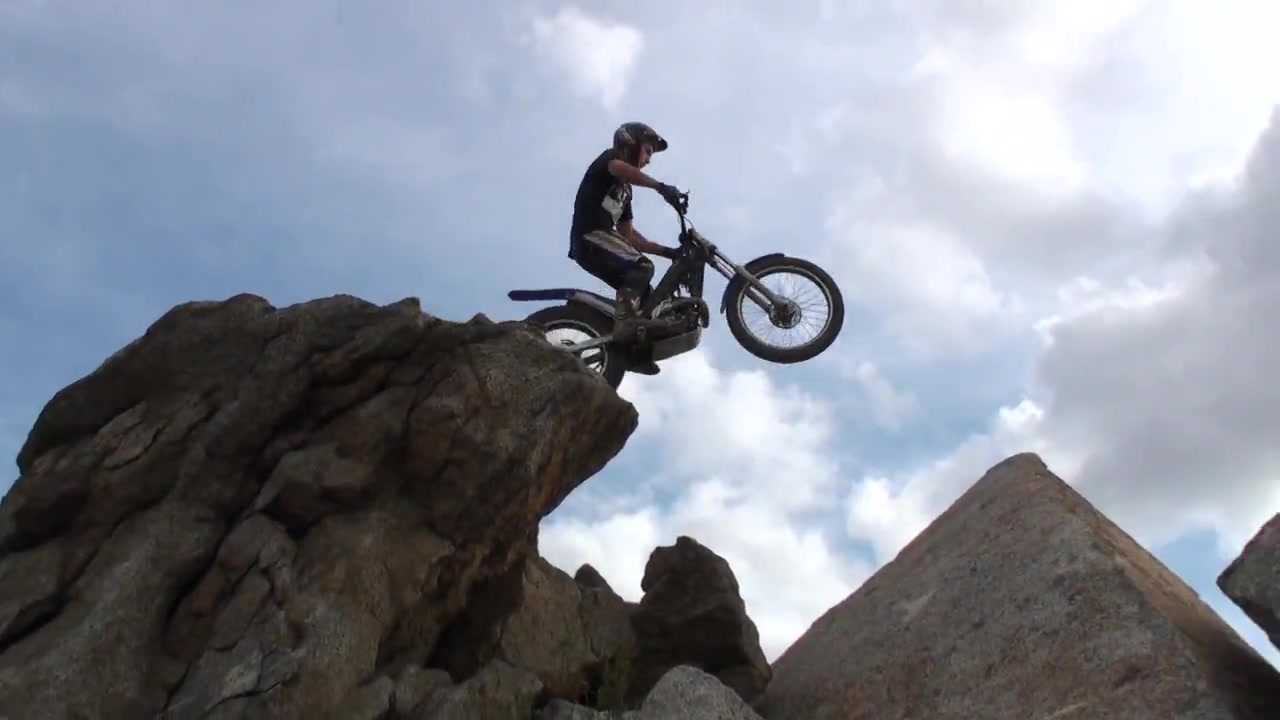motorbike: (505, 183, 848, 394)
